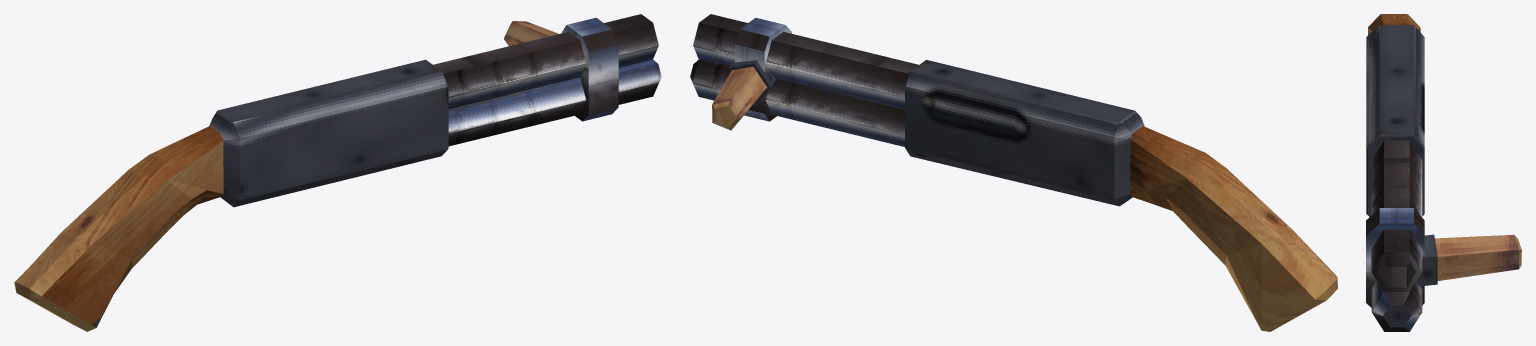
Rendered from shotgun.glb.
3 renders of one model, left to right at view 1: azimuth 30°, elevation 25°; view 2: azimuth 150°, elevation 25°; view 3: azimuth 270°, elevation 25°, orthographic. The views are drawn at different scales.
Parts seen in each view (by area): view 1: Shotgun; view 2: Shotgun; view 3: Shotgun.
Boxes of the visible parts, <box> form: Shotgun: <box>14,14,661,331</box>; Shotgun: <box>690,14,1337,331</box>; Shotgun: <box>1366,14,1521,331</box>.
Size of the model in its own units: 42.51 by 11.3 by 8.39.
1 material, 1 textured.
